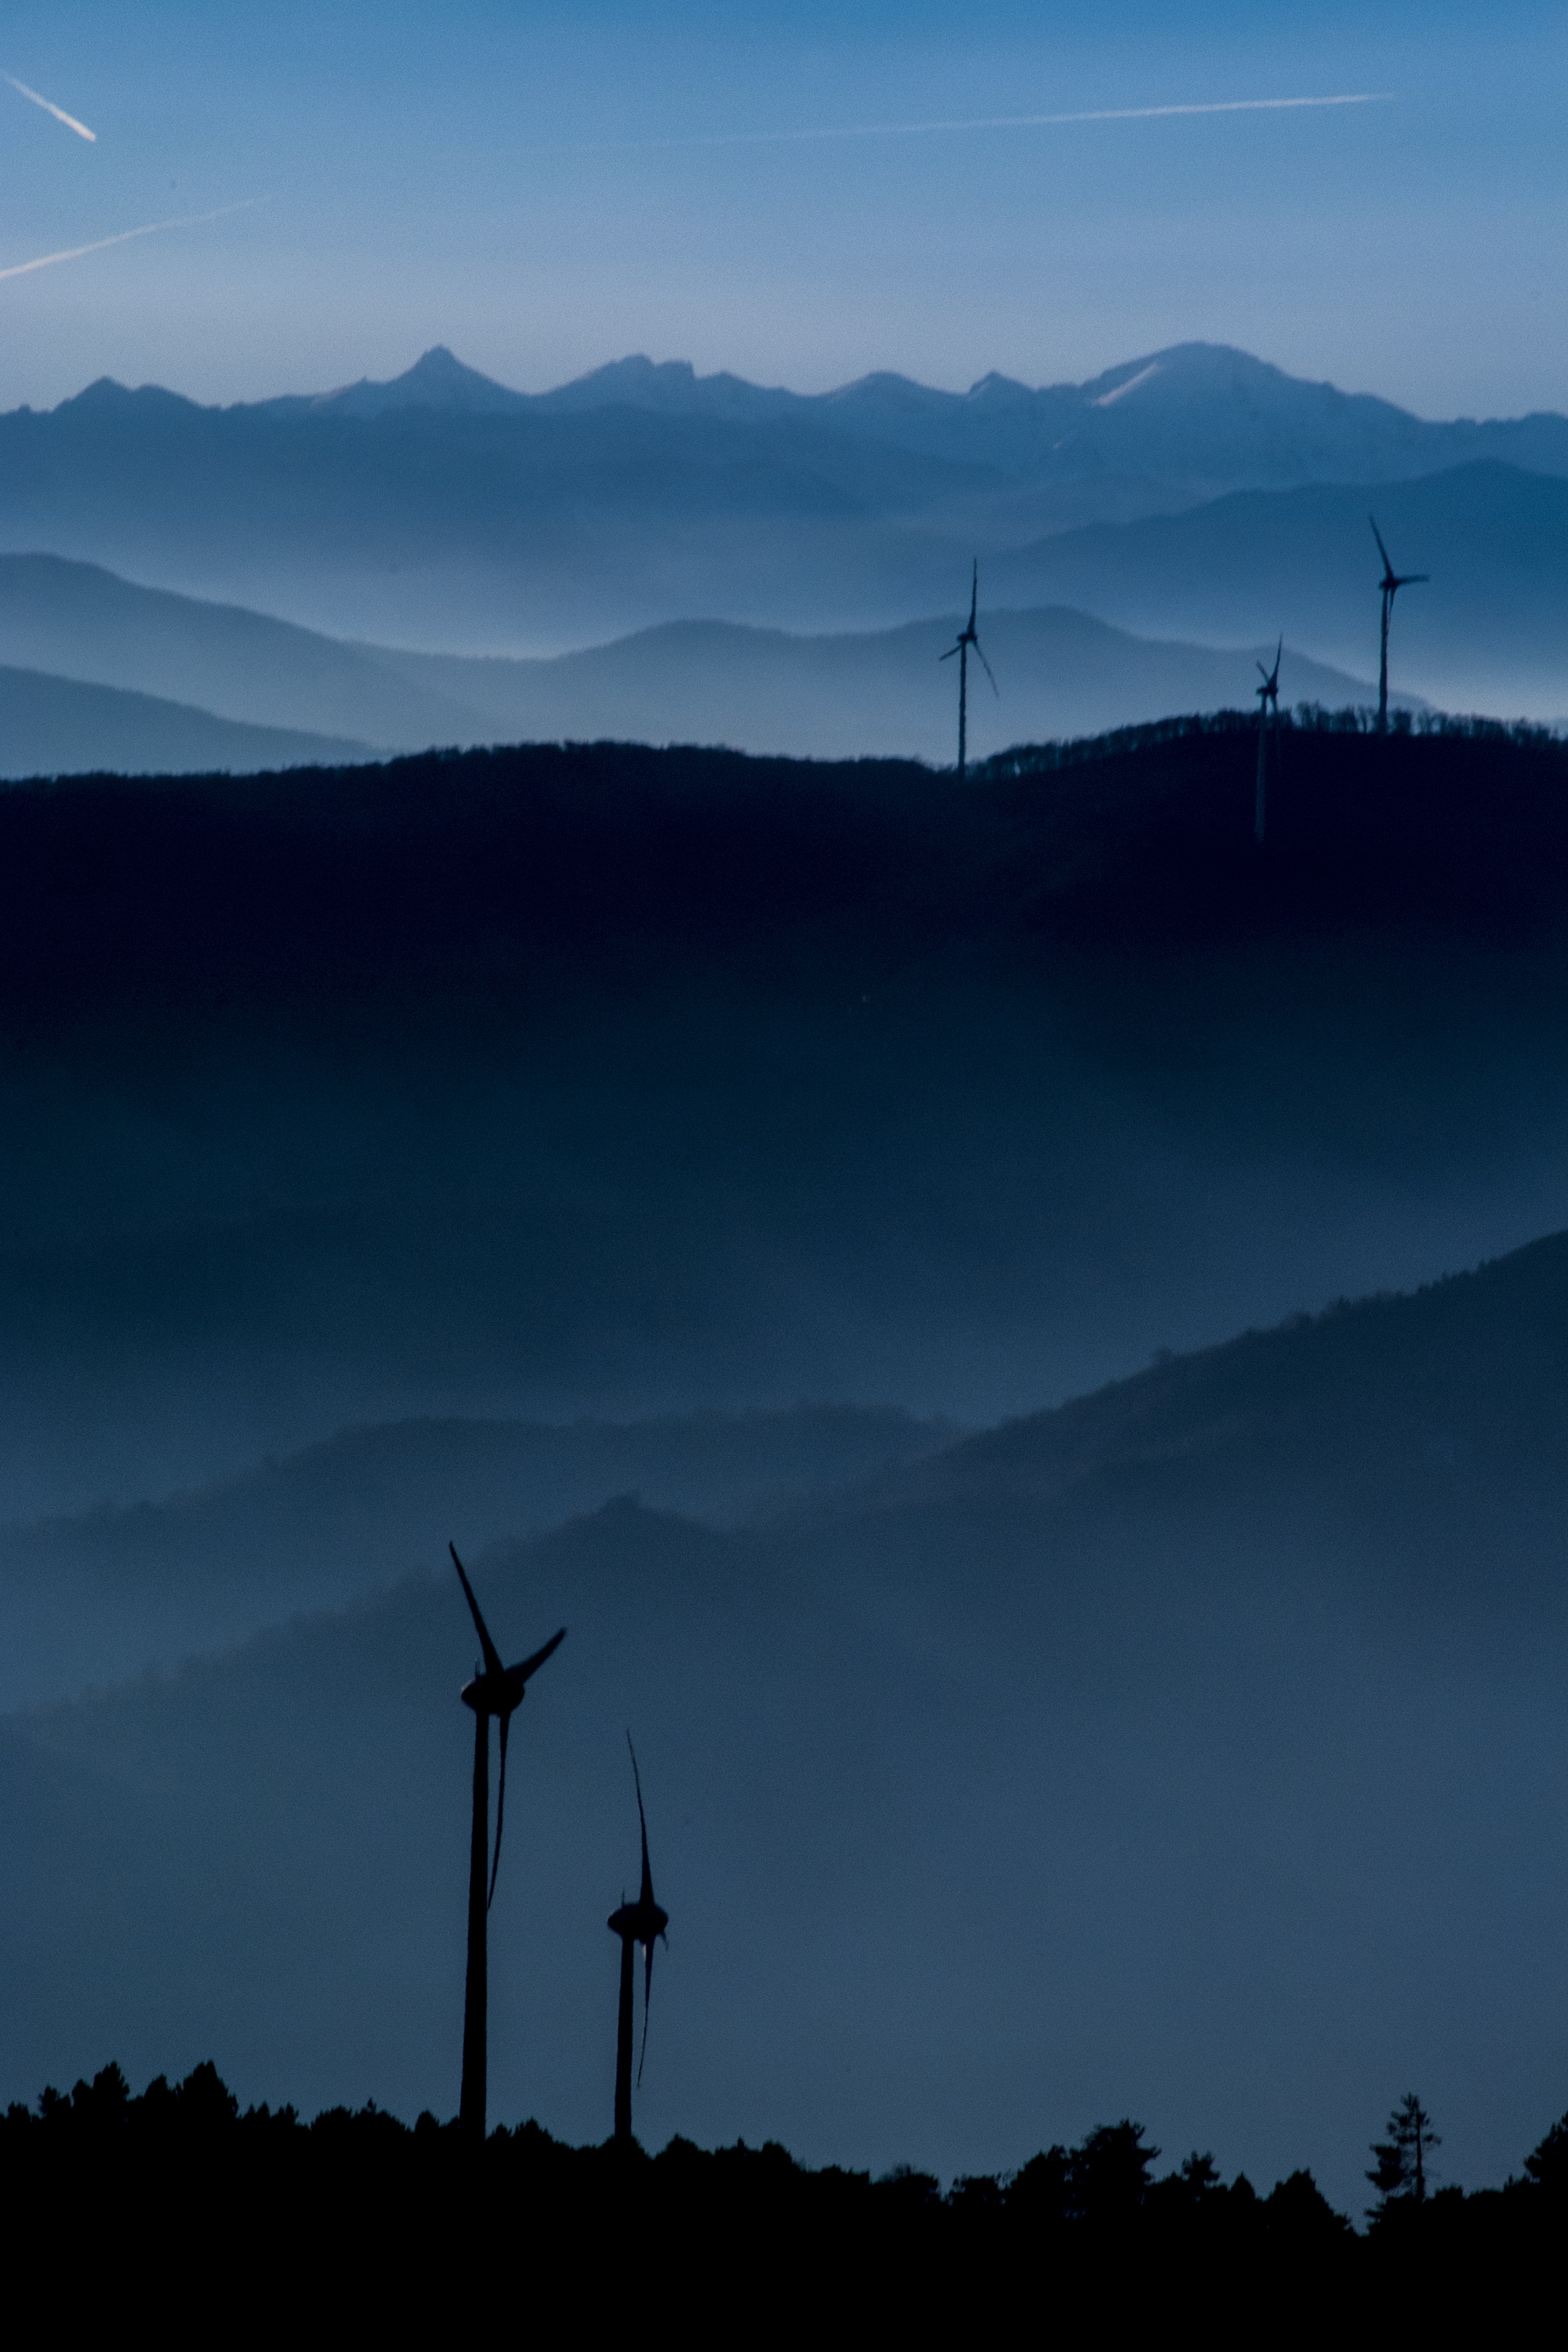working: (418, 1531, 578, 1958), (1344, 509, 1444, 691)
